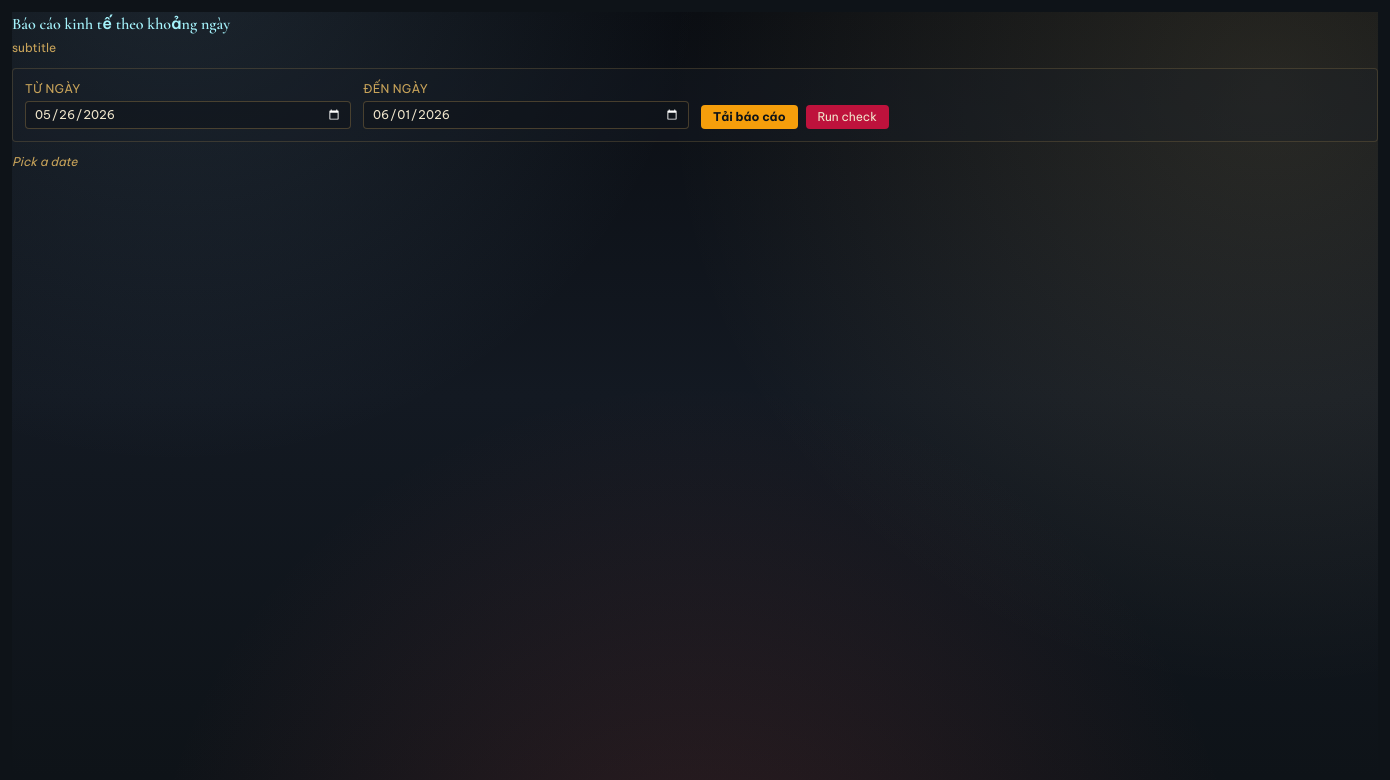
Test: AdminEconomyRangeReportPanel › load report renders summary + source + top-delta tables
This screenshot has width=1390, height=780.
What coordinates should you click on to do the following:
click the button with test id "admin-economy-range-report-load-btn"
I would click on:
 (749, 117)
Its box is [701, 105, 798, 129].
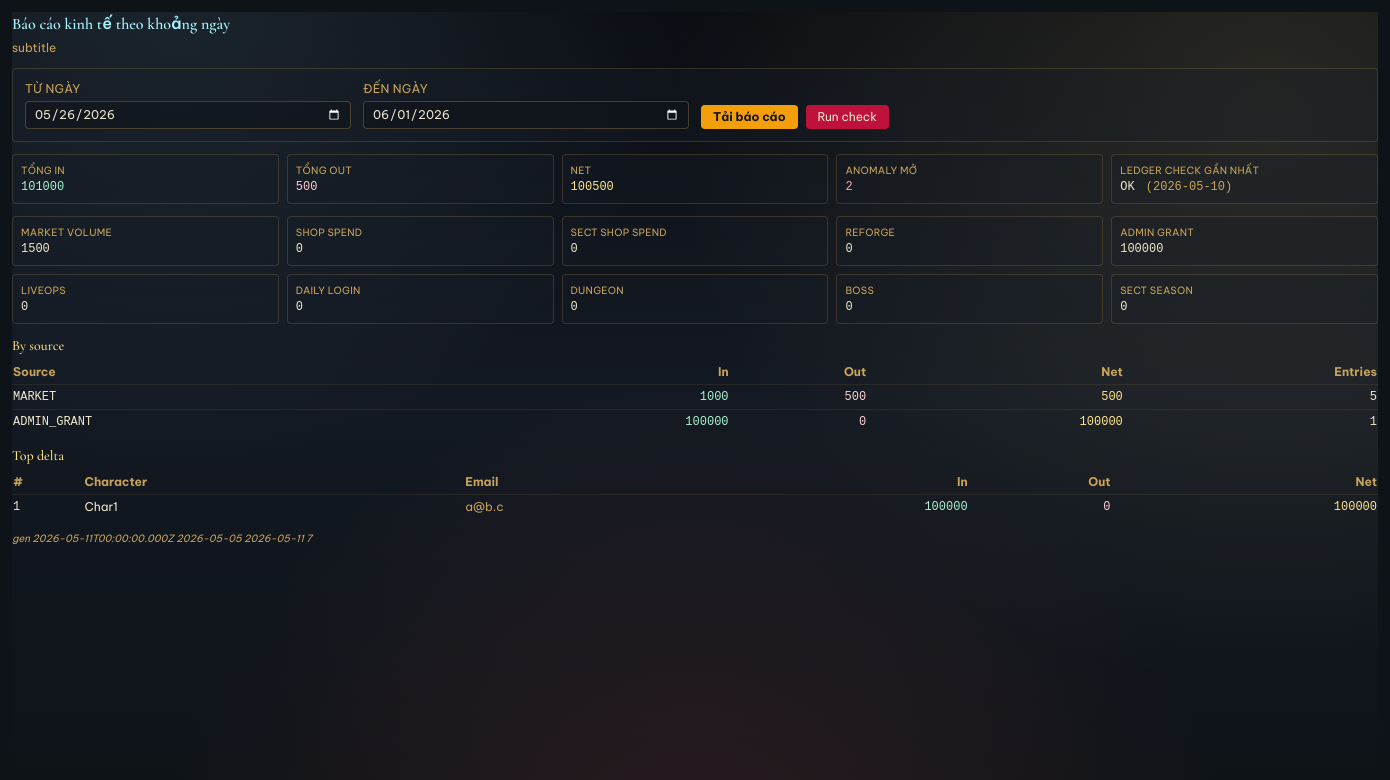
Result: the element with test id "admin-economy-range-report-summary" is shown at [12, 154, 1378, 204]
Result: the element with test id "admin-economy-range-report-by-source" is shown at [12, 336, 1378, 434]
Result: the element with test id "admin-economy-range-report-top-delta" is shown at [12, 446, 1378, 519]
